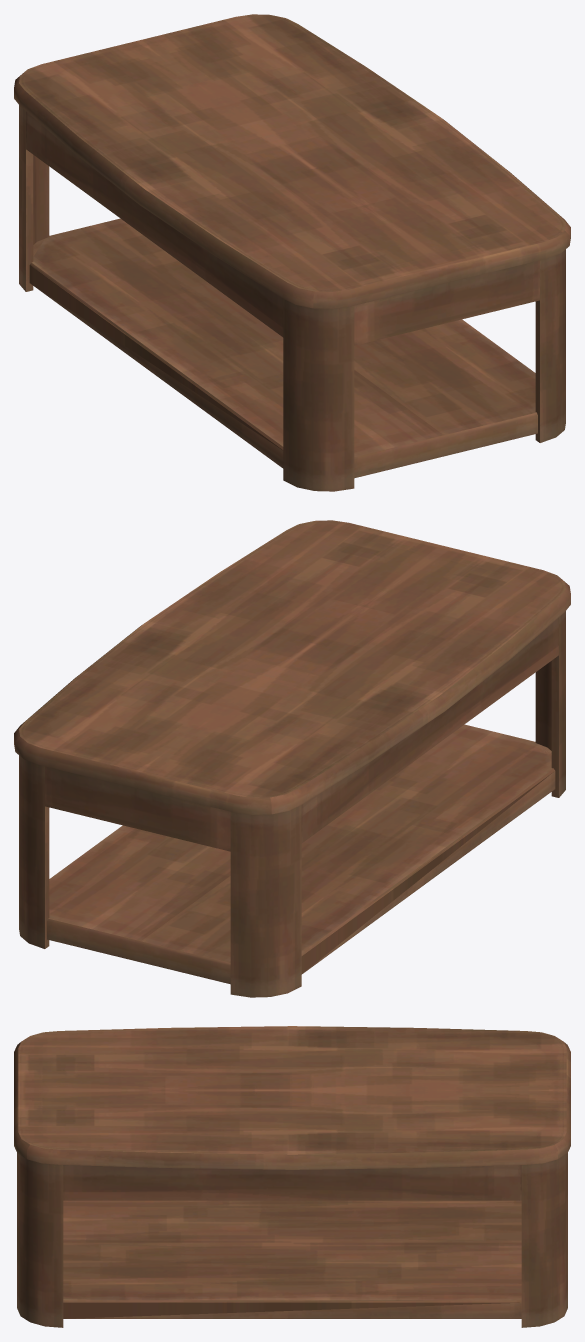
File: Coffee-Table.gltf
3 views of the same model, one above another, from view 1: azimuth 30°, elevation 25°; view 2: azimuth 150°, elevation 25°; view 3: azimuth 270°, elevation 25° (orthographic). The views are drawn at different scales.
Visible parts, largest first — view 1: ST_Furn_CoffeeTable01; view 2: ST_Furn_CoffeeTable01; view 3: ST_Furn_CoffeeTable01.
Part boxes in pixels (<box>): ST_Furn_CoffeeTable01: <box>14,14,570,491</box>; ST_Furn_CoffeeTable01: <box>14,520,570,997</box>; ST_Furn_CoffeeTable01: <box>14,1026,570,1327</box>.
Size of the model in its own units: 70.39 by 44 by 125.
1 material, 1 textured.
